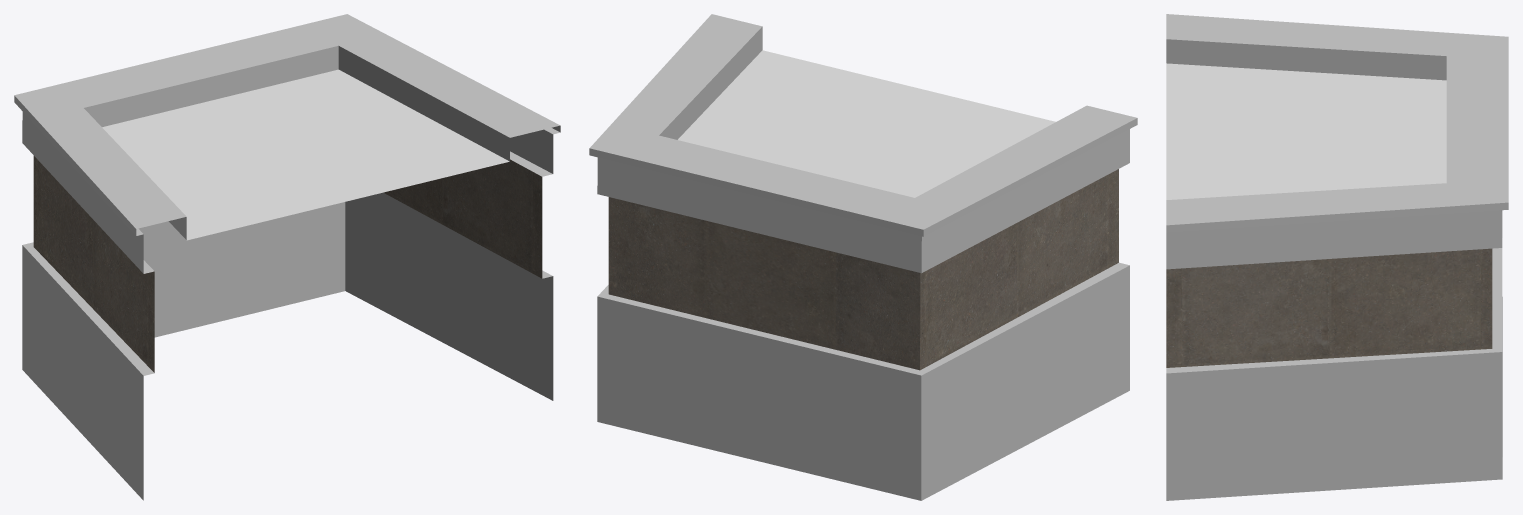
File: DecorazioneTerrazzo.fbx
The picture shows the model from 3 angles, left to right: view 1: azimuth 30°, elevation 25°; view 2: azimuth 150°, elevation 25°; view 3: azimuth 270°, elevation 25°; orthographic projection. The views are drawn at different scales.
Visible parts, largest first — view 1: DecorazioneTerrazzo; view 2: DecorazioneTerrazzo; view 3: DecorazioneTerrazzo.
Part boxes in pixels (box(x1,y1,x2,y2)): DecorazioneTerrazzo: box(14, 14, 560, 500); DecorazioneTerrazzo: box(589, 14, 1137, 500); DecorazioneTerrazzo: box(1166, 14, 1508, 500).
Size of the model in its own units: 135 by 83.26 by 92.42.
